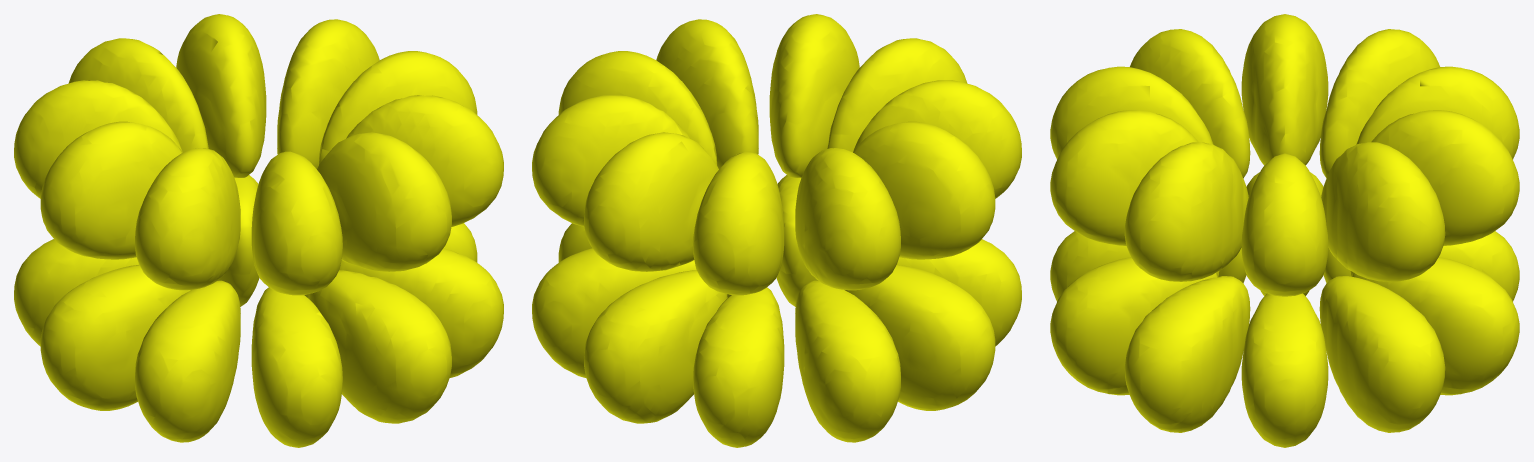
Rendered from orb_n=7_ l=6 _m=5.fbx.
3 views of the same model, side by side, from view 1: azimuth 30°, elevation 25°; view 2: azimuth 150°, elevation 25°; view 3: azimuth 270°, elevation 25° (orthographic).
Parts seen in each view (by area): view 1: orb_n=7_ l=6 _m=5; view 2: orb_n=7_ l=6 _m=5; view 3: orb_n=7_ l=6 _m=5.
Boxes of the visible parts, bbox=[...] form: orb_n=7_ l=6 _m=5: bbox=[14, 14, 503, 447]; orb_n=7_ l=6 _m=5: bbox=[532, 14, 1021, 447]; orb_n=7_ l=6 _m=5: bbox=[1050, 14, 1519, 447].
Size of the model in its own units: 15718 by 9918 by 15070.
